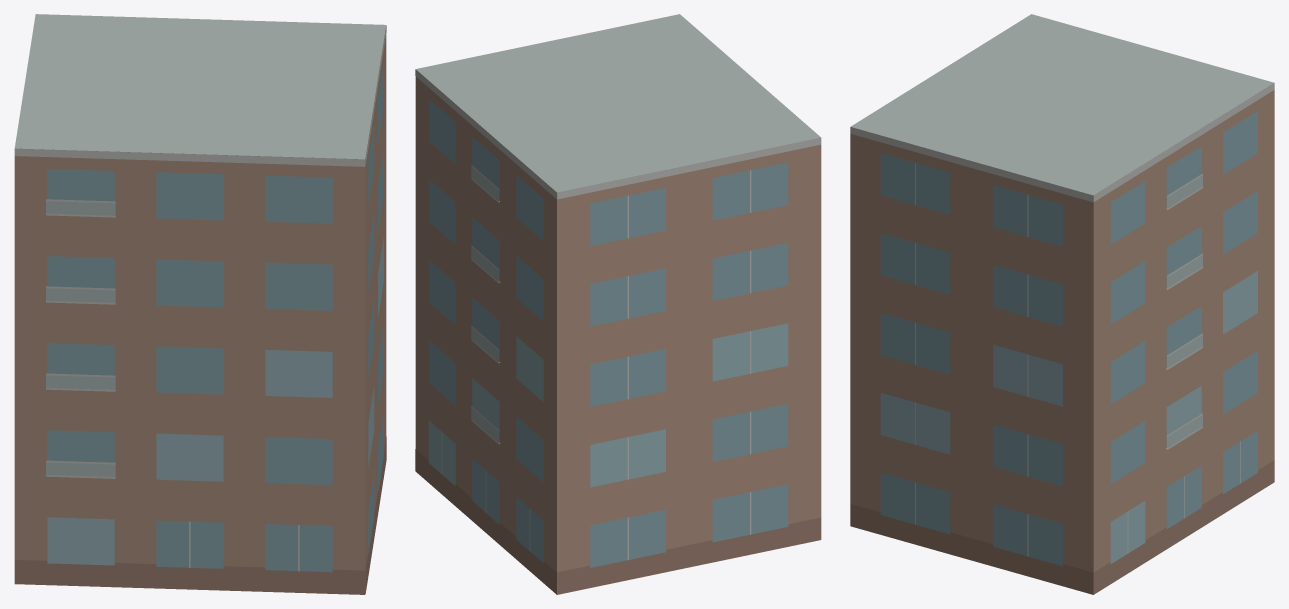
The model's file is survey-upis-32537739.glb.
3 renders of one model, left to right at view 1: azimuth 30°, elevation 25°; view 2: azimuth 150°, elevation 25°; view 3: azimuth 270°, elevation 25°, orthographic. The views are drawn at different scales.
Visible parts, largest first — view 1: survey-upis-32537739.tmp; view 2: survey-upis-32537739.tmp; view 3: survey-upis-32537739.tmp.
Boxes of the visible parts, <box> form: survey-upis-32537739.tmp: <box>14,14,386,594</box>; survey-upis-32537739.tmp: <box>415,14,821,594</box>; survey-upis-32537739.tmp: <box>850,14,1274,594</box>.
Bounding box in the file's own units: 13.8 × 14.15 × 13.63.
